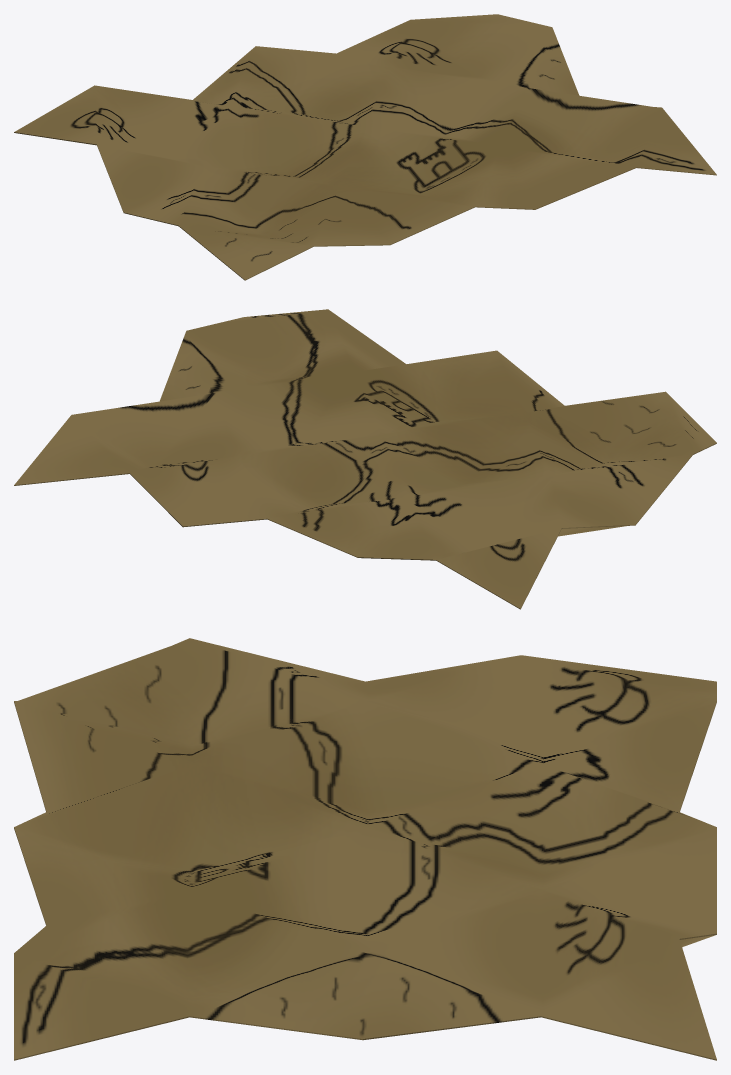
Rendered from Kaart.fbx.
The picture shows the model from 3 angles, top to bottom: view 1: azimuth 30°, elevation 25°; view 2: azimuth 150°, elevation 25°; view 3: azimuth 270°, elevation 25°; orthographic projection. The views are drawn at different scales.
Visible parts, largest first — view 1: Cube; view 2: Cube; view 3: Cube.
Boxes of the visible parts, x1=… form: Cube: x1=14, y1=14, x2=716, y2=280; Cube: x1=14, y1=309, x2=716, y2=609; Cube: x1=14, y1=638, x2=716, y2=1060.
Bounding box in the file's own units: 70 × 3.85 × 55.
